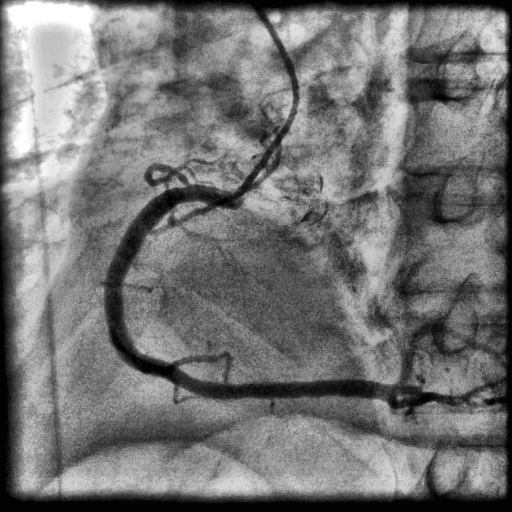rca: (104, 183, 393, 400)
